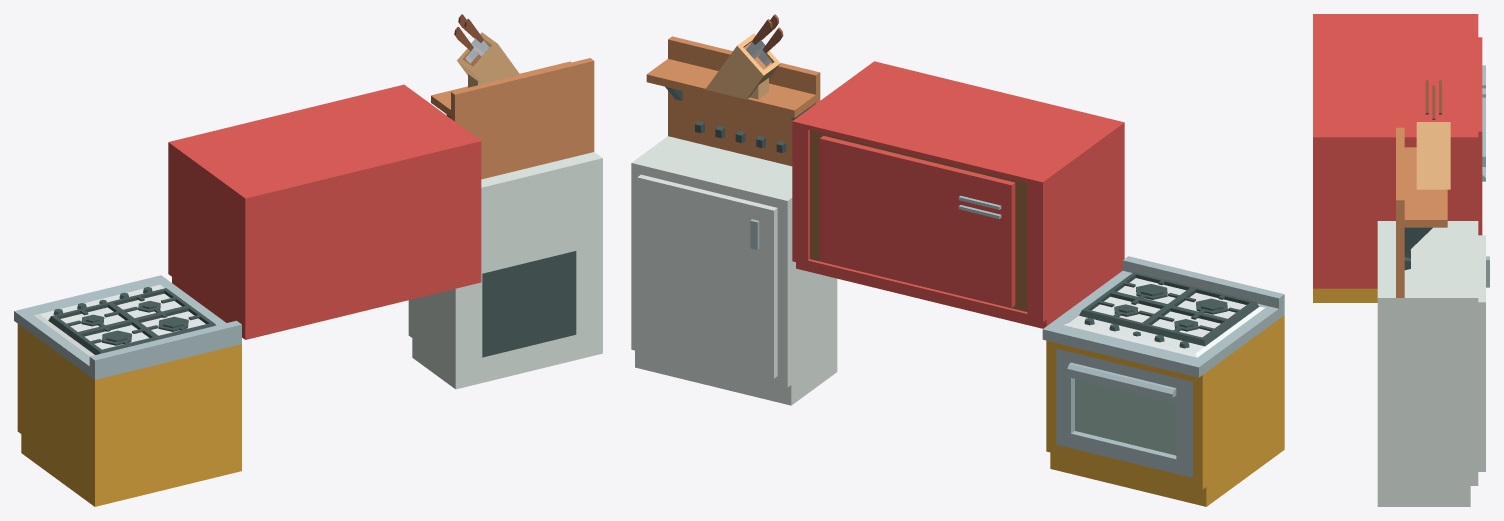
File: 3ObtacleKitchenDown.fbx
3 renders of one model, left to right at view 1: azimuth 30°, elevation 25°; view 2: azimuth 150°, elevation 25°; view 3: azimuth 270°, elevation 25°, orthographic. The views are drawn at different scales.
Visible parts, largest first — view 1: kitchenFridgeBuiltIn, kitchenStove, kitchenFridgeSmall, coatRack, knifeBlock; view 2: kitchenFridgeBuiltIn, kitchenStove, kitchenFridgeSmall, coatRack, knifeBlock; view 3: kitchenFridgeBuiltIn, kitchenFridgeSmall, coatRack, knifeBlock, kitchenStove.
Part boxes in pixels (bbox=[...]): kitchenFridgeBuiltIn: bbox=[168, 84, 481, 339]; kitchenStove: bbox=[14, 275, 241, 506]; kitchenFridgeSmall: bbox=[408, 152, 602, 389]; coatRack: bbox=[431, 58, 594, 179]; knifeBlock: bbox=[454, 14, 519, 87]; kitchenFridgeBuiltIn: bbox=[792, 61, 1124, 328]; kitchenStove: bbox=[1042, 256, 1284, 506]; kitchenFridgeSmall: bbox=[631, 136, 837, 405]; coatRack: bbox=[646, 36, 820, 166]; knifeBlock: bbox=[705, 14, 783, 99]; kitchenFridgeBuiltIn: bbox=[1313, 14, 1485, 288]; kitchenFridgeSmall: bbox=[1377, 221, 1489, 506]; coatRack: bbox=[1396, 127, 1447, 297]; knifeBlock: bbox=[1416, 80, 1450, 189]; kitchenStove: bbox=[1313, 97, 1485, 302].
Size of the model in its own units: 34.6 by 21.18 by 9.2.
